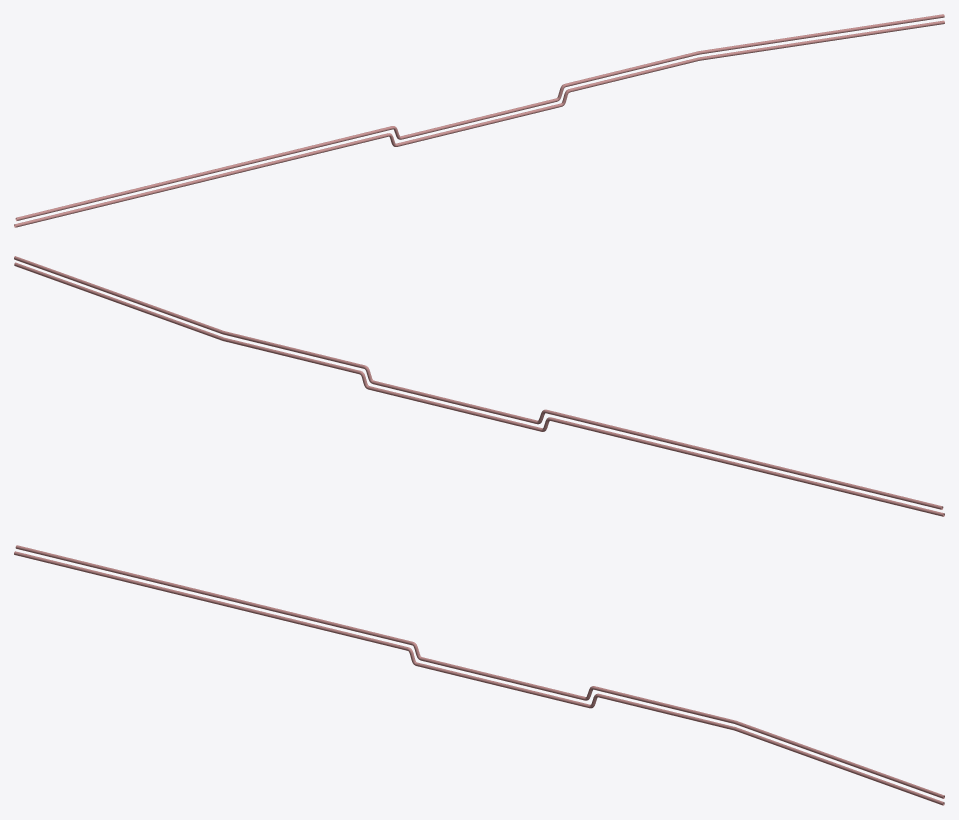
Rendered from Pipe_Horizontal_Small_L.fbx.
3 views of the same model, one above another, from view 1: azimuth 30°, elevation 25°; view 2: azimuth 150°, elevation 25°; view 3: azimuth 330°, elevation 25° (orthographic). The views are drawn at different scales.
Visible parts, largest first — view 1: Pipe_Horizontal_Small_L; view 2: Pipe_Horizontal_Small_L; view 3: Pipe_Horizontal_Small_L.
Boxes of the visible parts, left/top/right/bottom form: Pipe_Horizontal_Small_L: left=14, top=14, right=944, bottom=227; Pipe_Horizontal_Small_L: left=14, top=256, right=944, bottom=516; Pipe_Horizontal_Small_L: left=14, top=545, right=944, bottom=805.
Bounding box in the file's own units: 2272 × 52.37 × 110.
